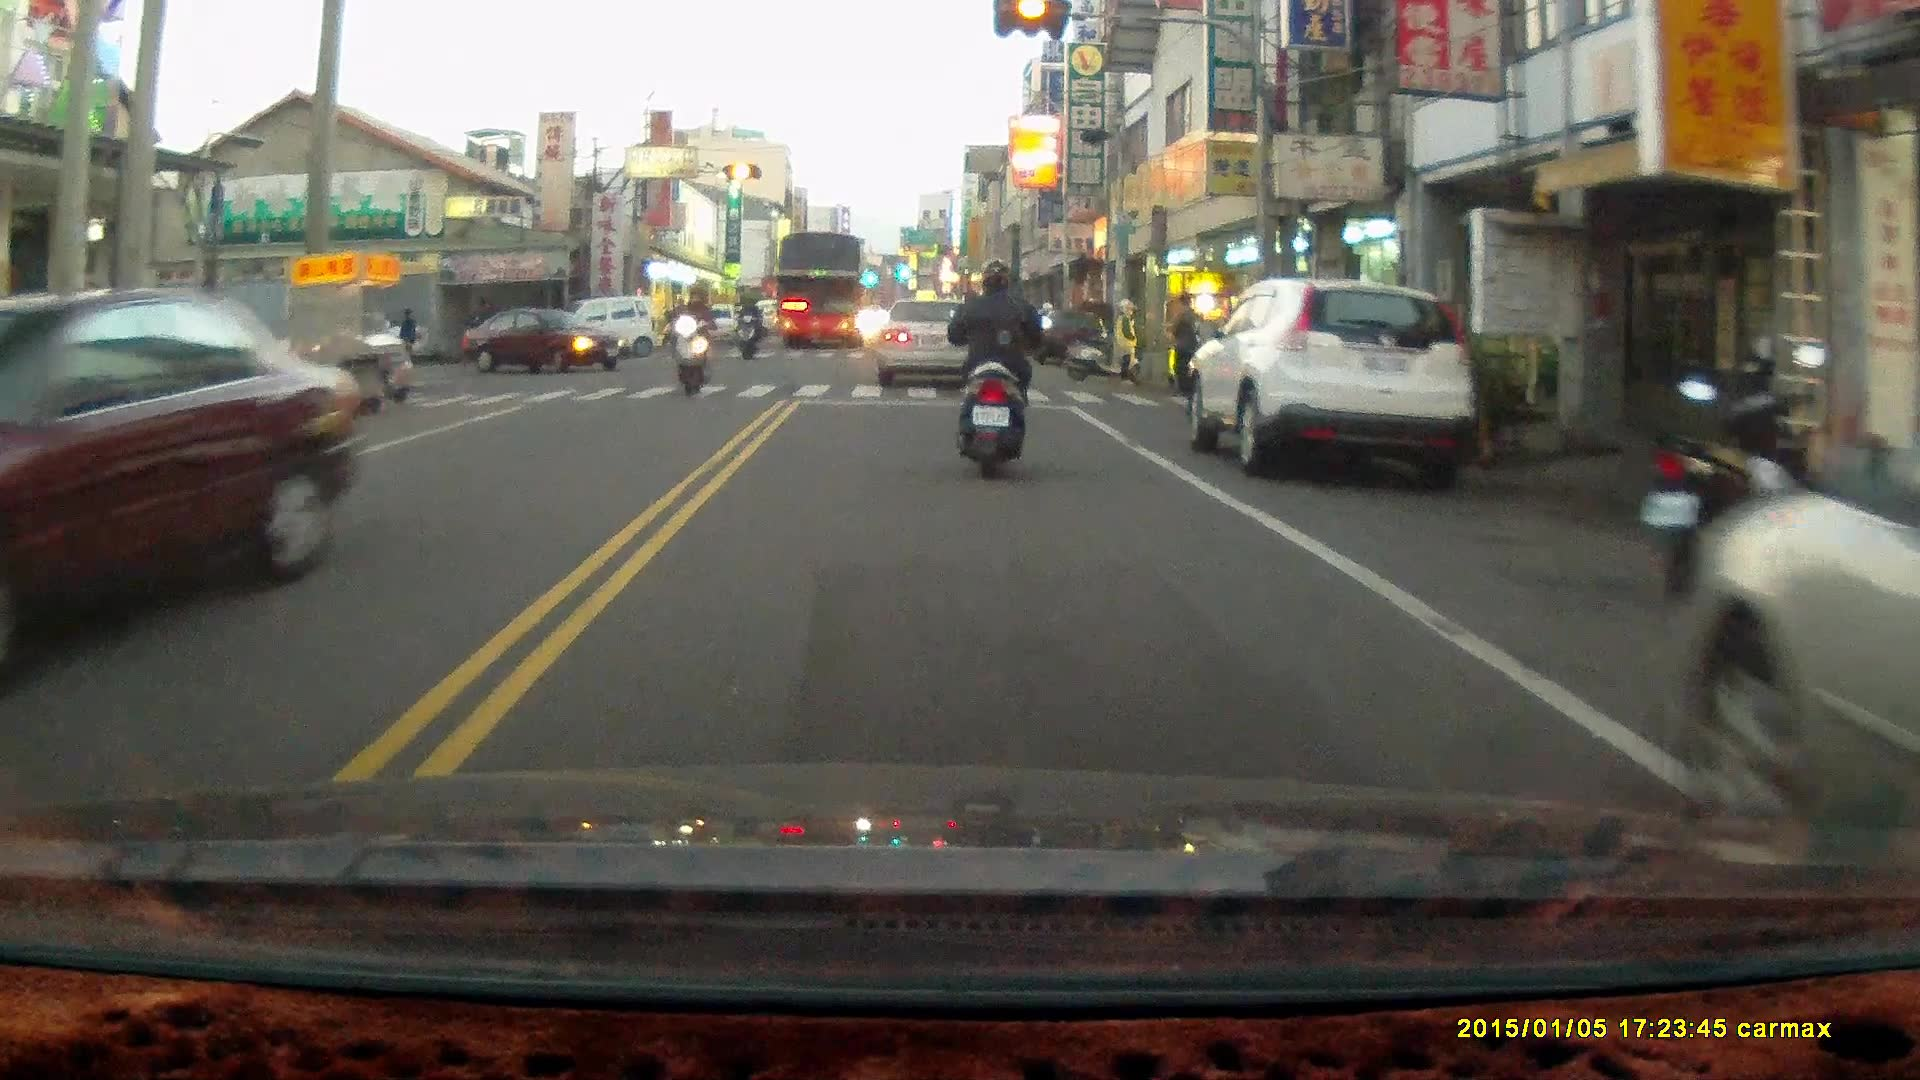pedestrian: (1170, 290, 1201, 394), (1112, 296, 1144, 385), (395, 304, 417, 366)
rider: (946, 255, 1042, 480), (669, 281, 716, 398), (735, 289, 759, 357)
vehicle: (1, 285, 358, 683), (1672, 410, 1919, 847), (1188, 278, 1477, 478), (766, 232, 870, 348), (471, 306, 623, 380), (875, 297, 985, 388)
